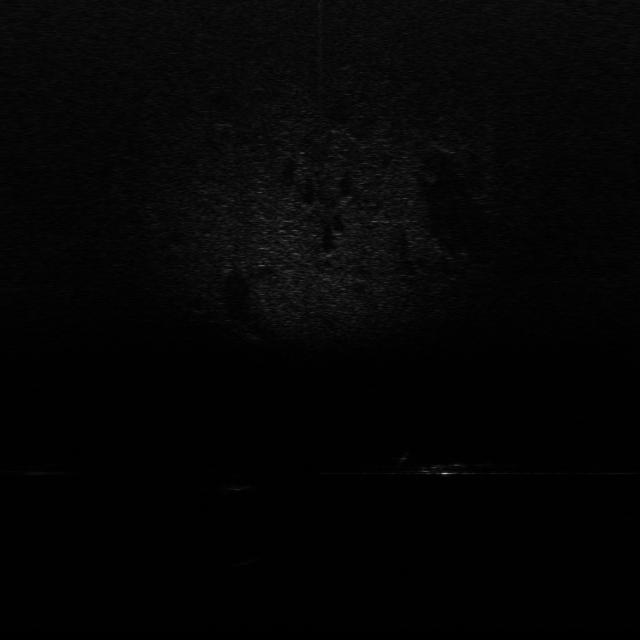ball: (221, 469, 257, 494)
circle cage: (220, 550, 270, 582)
human body: (391, 445, 498, 480)
